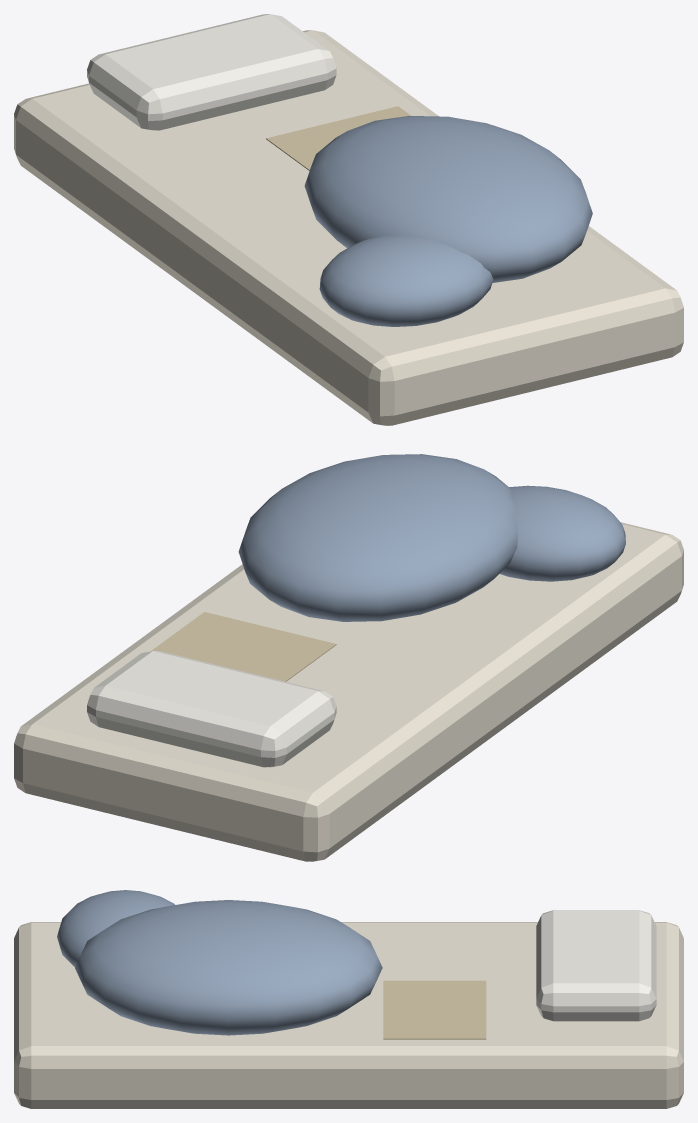
File: mattress.fbx
3 renders of one model, top to bottom at view 1: azimuth 30°, elevation 25°; view 2: azimuth 150°, elevation 25°; view 3: azimuth 270°, elevation 25°, orthographic. The views are drawn at different scales.
Visible parts, largest first — view 1: mattress; view 2: mattress; view 3: mattress.
Part boxes in pixels (x1=…): mattress: x1=14, y1=14, x2=683, y2=425; mattress: x1=14, y1=454, x2=683, y2=861; mattress: x1=14, y1=890, x2=683, y2=1108.
Bounding box in the file's own units: 0.95 × 0.444 × 1.95.
